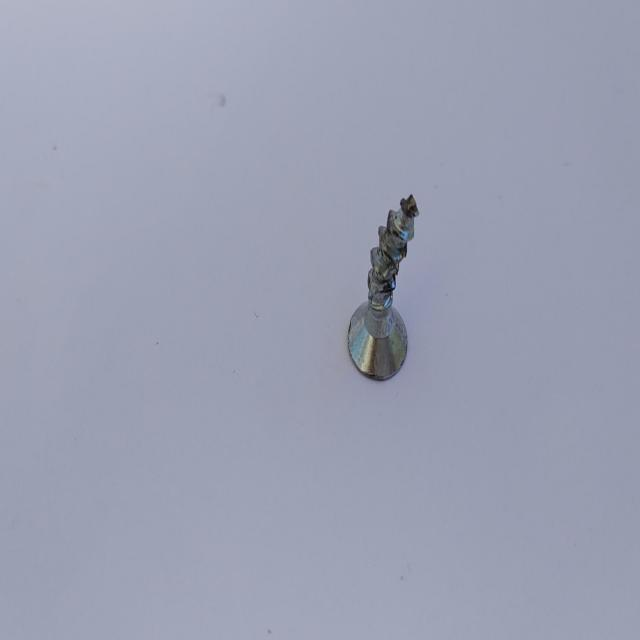Screw: (348, 193, 419, 380)
